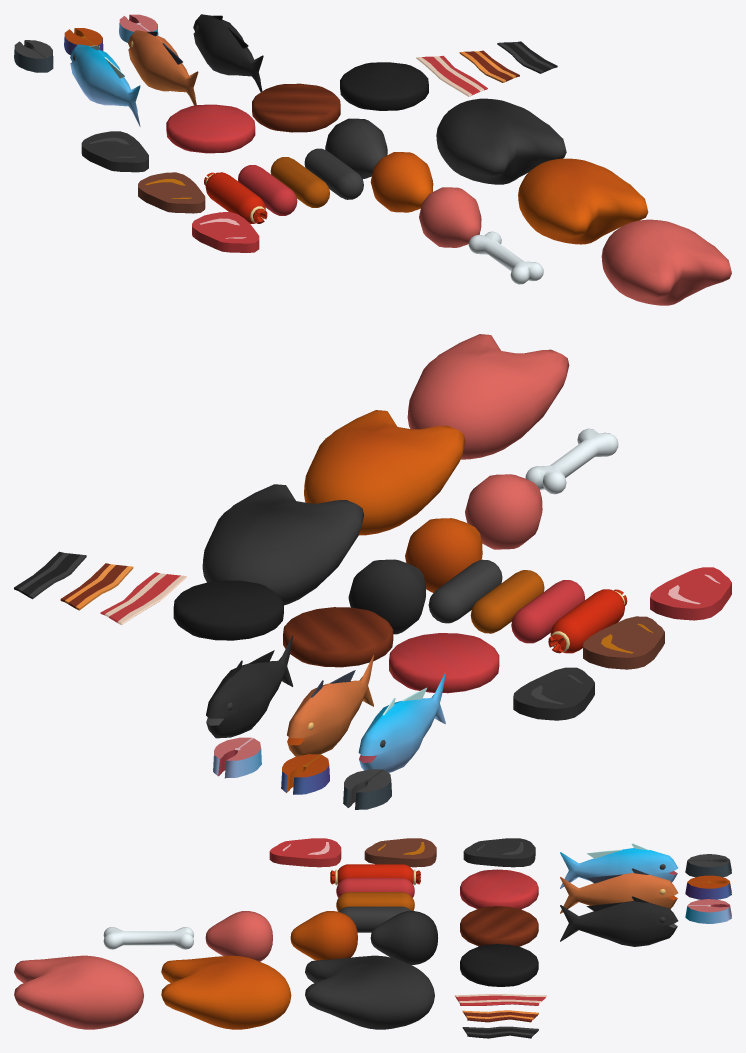
Rendered from meat.fbx.
3 renders of one model, top to bottom at view 1: azimuth 30°, elevation 25°; view 2: azimuth 150°, elevation 25°; view 3: azimuth 270°, elevation 25°, orthographic. The views are drawn at different scales.
Visible parts, largest first — view 1: chicken_Cooked, chicken_Raw, chicken_Burnt, groundBeef_Raw, groundBeef_Cooked, groundBeef_Burnt, chicken_Leg_Meat_Raw, chicken_Leg_Meat_Cooked, fish, fish_Burnt, fish_Cooked, chicken_Leg_Meat_Burnt (+14 smaller); view 2: chicken_Raw, chicken_Cooked, chicken_Burnt, groundBeef_Burnt, groundBeef_Cooked, groundBeef_Raw, chicken_Leg_Meat_Raw, fish_Burnt, fish_Cooked, fish, chicken_Leg_Meat_Burnt, chicken_Leg_Meat_Cooked (+14 smaller); view 3: chicken_Cooked, chicken_Raw, chicken_Burnt, fish_Burnt, fish_Cooked, groundBeef_Burnt, chicken_Leg_Meat_Burnt, fish, groundBeef_Cooked, chicken_Leg_Meat_Cooked, groundBeef_Raw, chicken_Leg_Meat_Raw (+14 smaller).
Part boxes in pixels (x1,y1,x2,y2): chicken_Cooked: (518,158,648,244); chicken_Raw: (601,219,731,305); chicken_Burnt: (436,98,566,184); groundBeef_Raw: (166,104,255,153); groundBeef_Cooked: (252,83,340,132); groundBeef_Burnt: (340,62,428,110); chicken_Leg_Meat_Raw: (419,187,481,247); chicken_Leg_Meat_Cooked: (370,152,433,212); fish: (70,44,140,126); fish_Burnt: (193,14,263,91); fish_Cooked: (128,30,198,105); chicken_Leg_Meat_Burnt: (325,118,387,178); chicken_Raw: (407,334,569,459); chicken_Cooked: (304,410,465,535); chicken_Burnt: (202,484,363,605); groundBeef_Burnt: (173,580,283,640); groundBeef_Cooked: (283,607,393,667); groundBeef_Raw: (389,633,499,693); chicken_Leg_Meat_Raw: (465,474,542,549); fish_Burnt: (206,635,292,738); fish_Cooked: (287,655,373,756); fish: (358,672,445,772); chicken_Leg_Meat_Burnt: (348,559,425,634); chicken_Leg_Meat_Cooked: (405,518,482,592); chicken_Cooked: (161,955,291,1029); chicken_Raw: (14,955,143,1029); chicken_Burnt: (305,955,434,1029); fish_Burnt: (560,896,678,946); fish_Cooked: (560,868,678,913); groundBeef_Burnt: (460,944,538,986); chicken_Leg_Meat_Burnt: (370,911,437,964); fish: (560,843,677,888); groundBeef_Cooked: (460,906,538,946); chicken_Leg_Meat_Cooked: (290,911,357,960); groundBeef_Raw: (460,869,538,909); chicken_Leg_Meat_Raw: (205,911,272,961).
Bounding box in the file's own units: 6.91 × 10.96 × 1.27.
